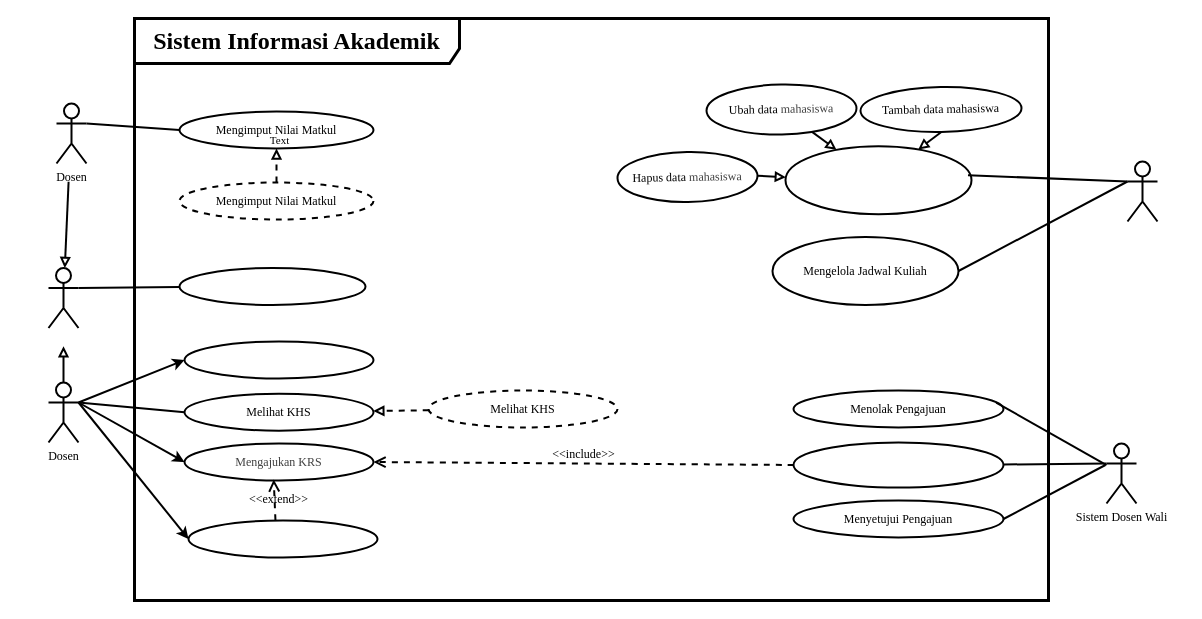
This 1202x619 diagram has some shape labels left out. Each missing label, with the centre of its shape:
"Admin Akademik" belongs at pixel 1142 191.
"Civitas Akademika" belongs at pixel 63 297.
"Melihat Jadwal Kuliah" belongs at pixel 278 359.
"Melihat Kalender Akademik" belongs at pixel 272 286.
"Memvalidasi KRS" belongs at pixel 898 464.
"Mengelola Data Mahasiswa" belongs at pixel 878 180.
"Mengunduh Bukti" belongs at pixel 282 538.
